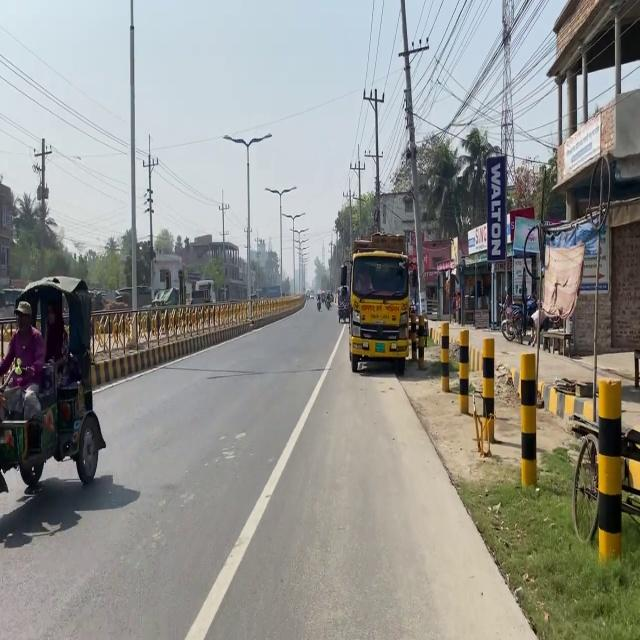Bench: (440, 318, 636, 570)
Construction-barrier: (394, 370, 539, 638)
Fallen-tree: (500, 293, 537, 345), (316, 294, 321, 311)
Traffic-cone: (0, 274, 106, 492), (338, 231, 418, 375), (189, 279, 216, 305)
